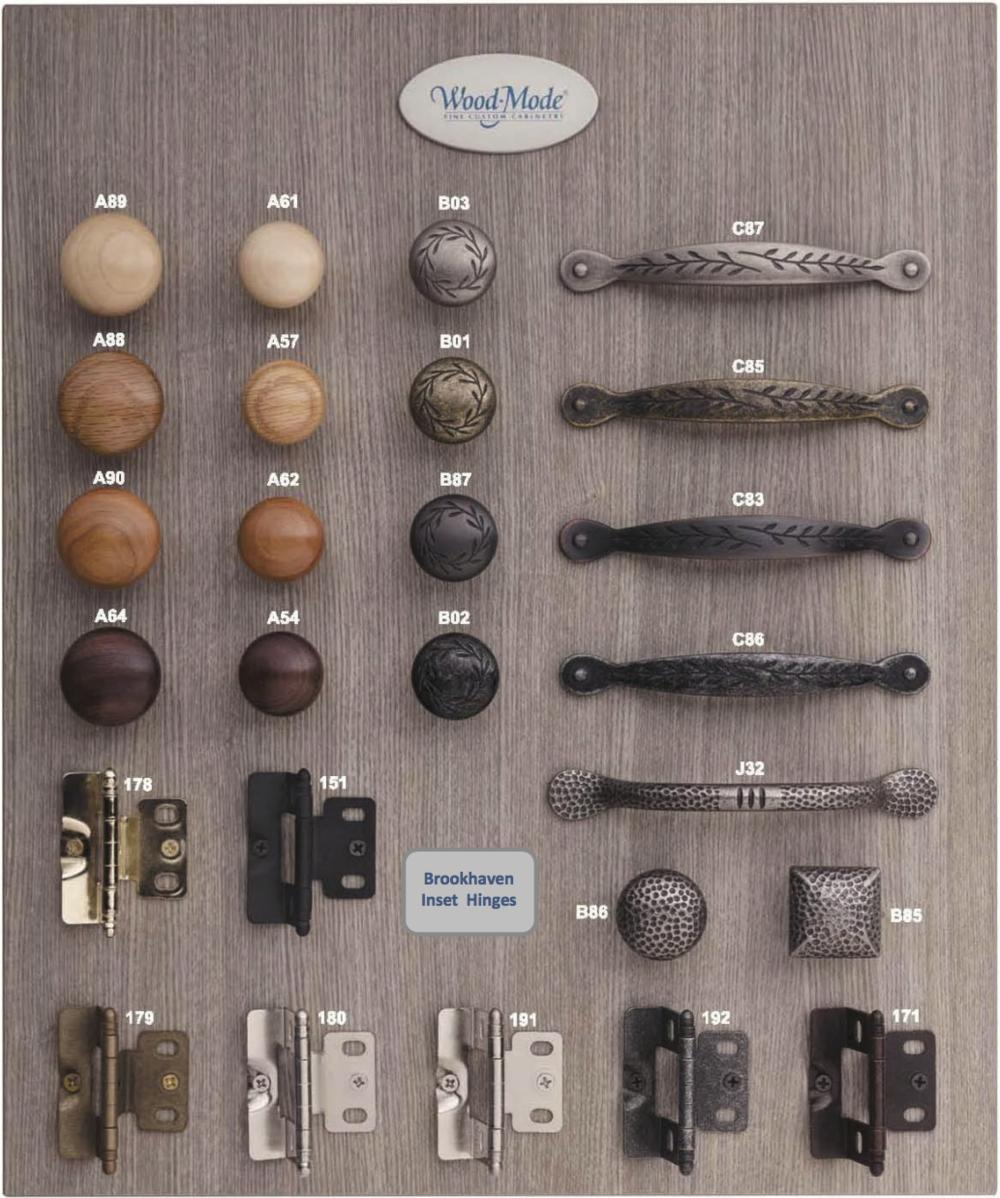handle: (560, 228, 934, 328), (566, 353, 929, 446), (541, 757, 943, 839), (556, 496, 939, 574), (611, 992, 759, 1178), (236, 768, 381, 945), (794, 1000, 936, 1180), (46, 1003, 196, 1173), (560, 640, 934, 706), (238, 998, 375, 1167), (436, 993, 563, 1175), (58, 773, 194, 941), (38, 478, 174, 590), (52, 615, 168, 730), (402, 473, 507, 594), (59, 338, 168, 453), (403, 617, 507, 728), (234, 196, 329, 316), (230, 486, 330, 597), (789, 857, 884, 970), (66, 204, 160, 318), (402, 351, 509, 449), (409, 208, 500, 323), (229, 614, 326, 719), (240, 344, 326, 460), (614, 862, 708, 962)
